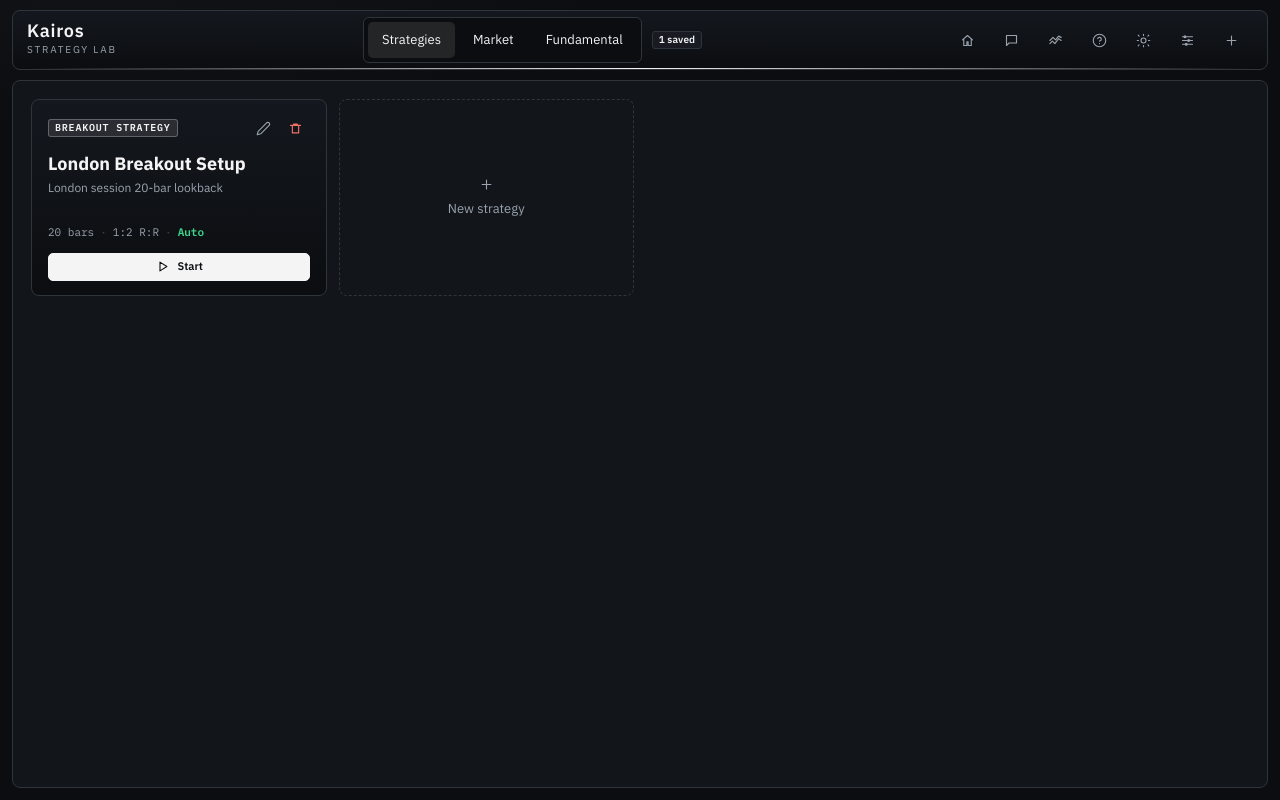
it: Empirical Challenger M4: Panels, Desks, Buttons & Forms Stress Suite › StrategyLibrary: Card Actions, Composer, Delete Confirmation & Search › edits an existing strategy via card Edit button and updates store
The width and height of the screenshot is (1280, 800).
Later steps or results of the test are not shown.
# Click Edit IconButton
Click the button named "edit london breakout setup": (264, 128) [250,114,278,142]
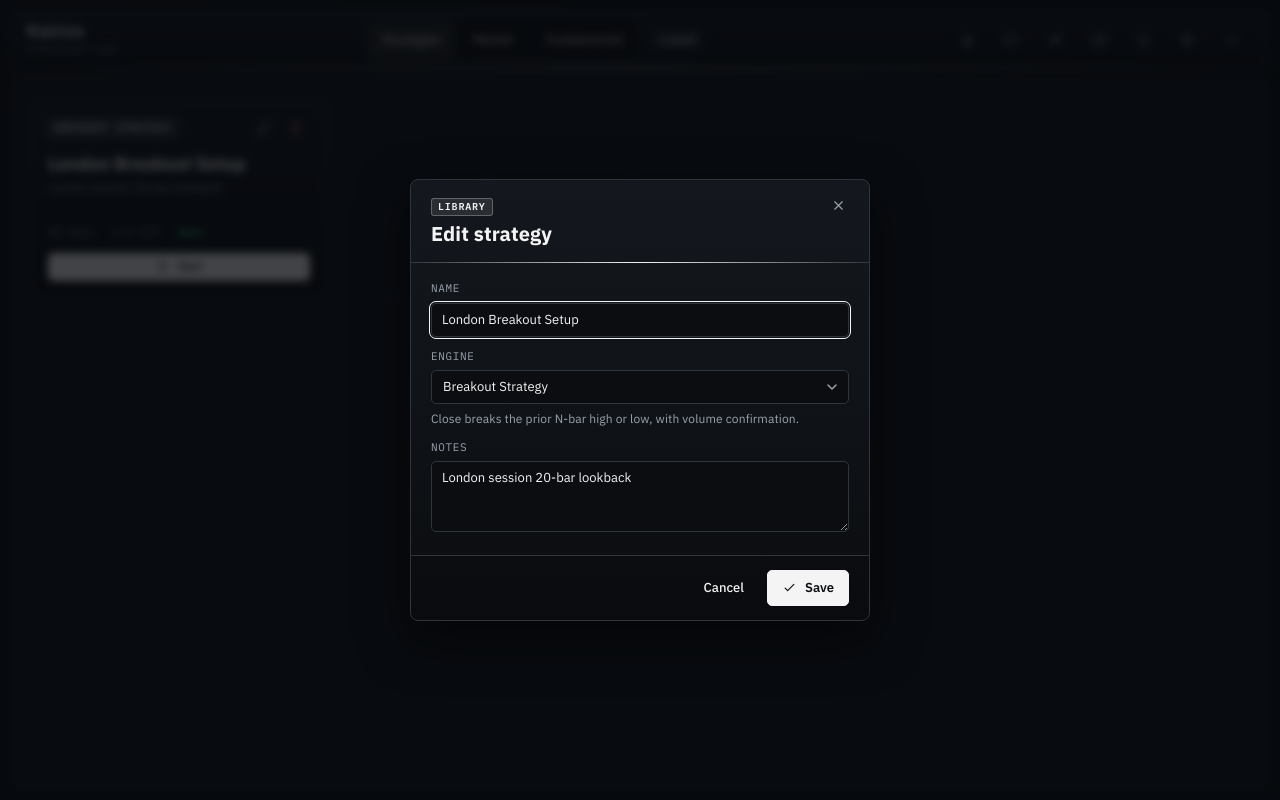
expect the heading "Edit strategy" is shown: met, box [431,220,552,248]
expect the field with placeholder "London breakout" holds "London Breakout Setup": met
# Modify name
Replace the text in the field with placeholder "London breakout" with "London Breakout Setup v2": (640, 320) [431,302,849,337]
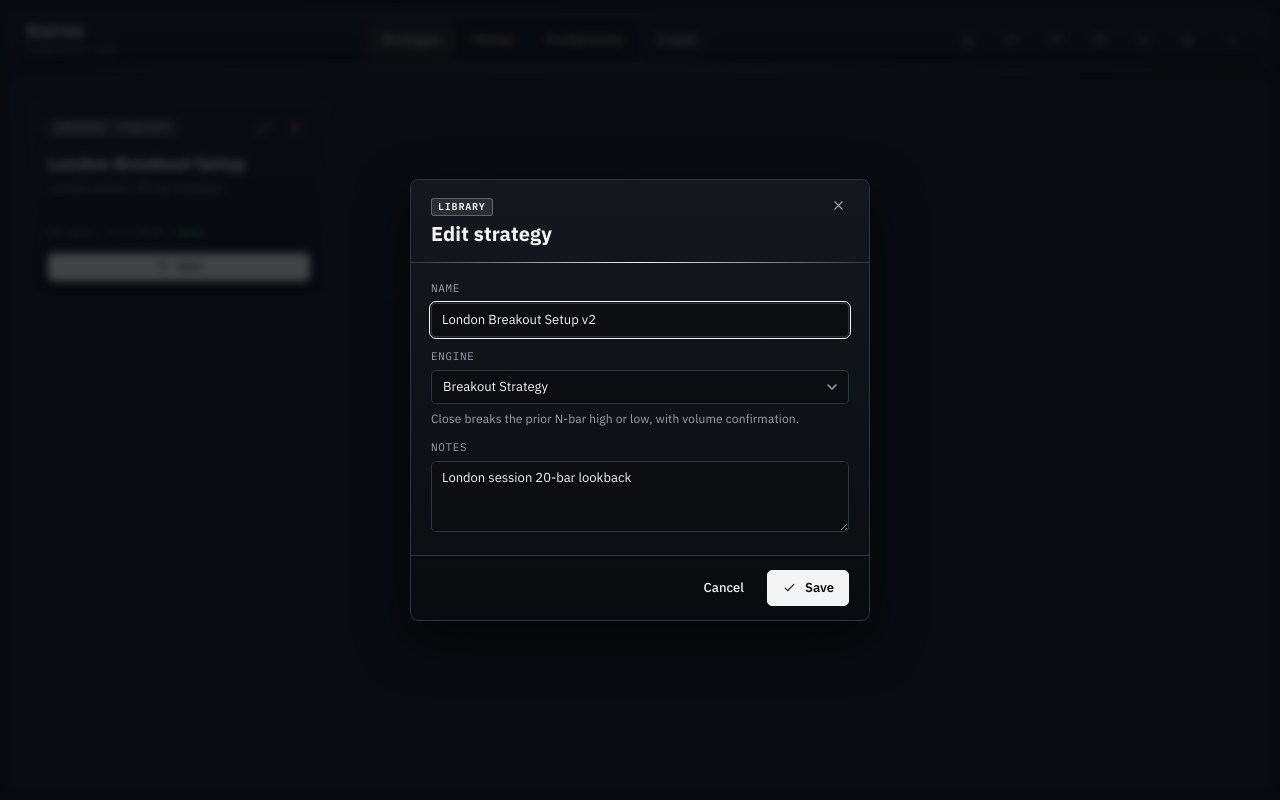
expect the submit button is shown: met, box [767,570,849,606]
